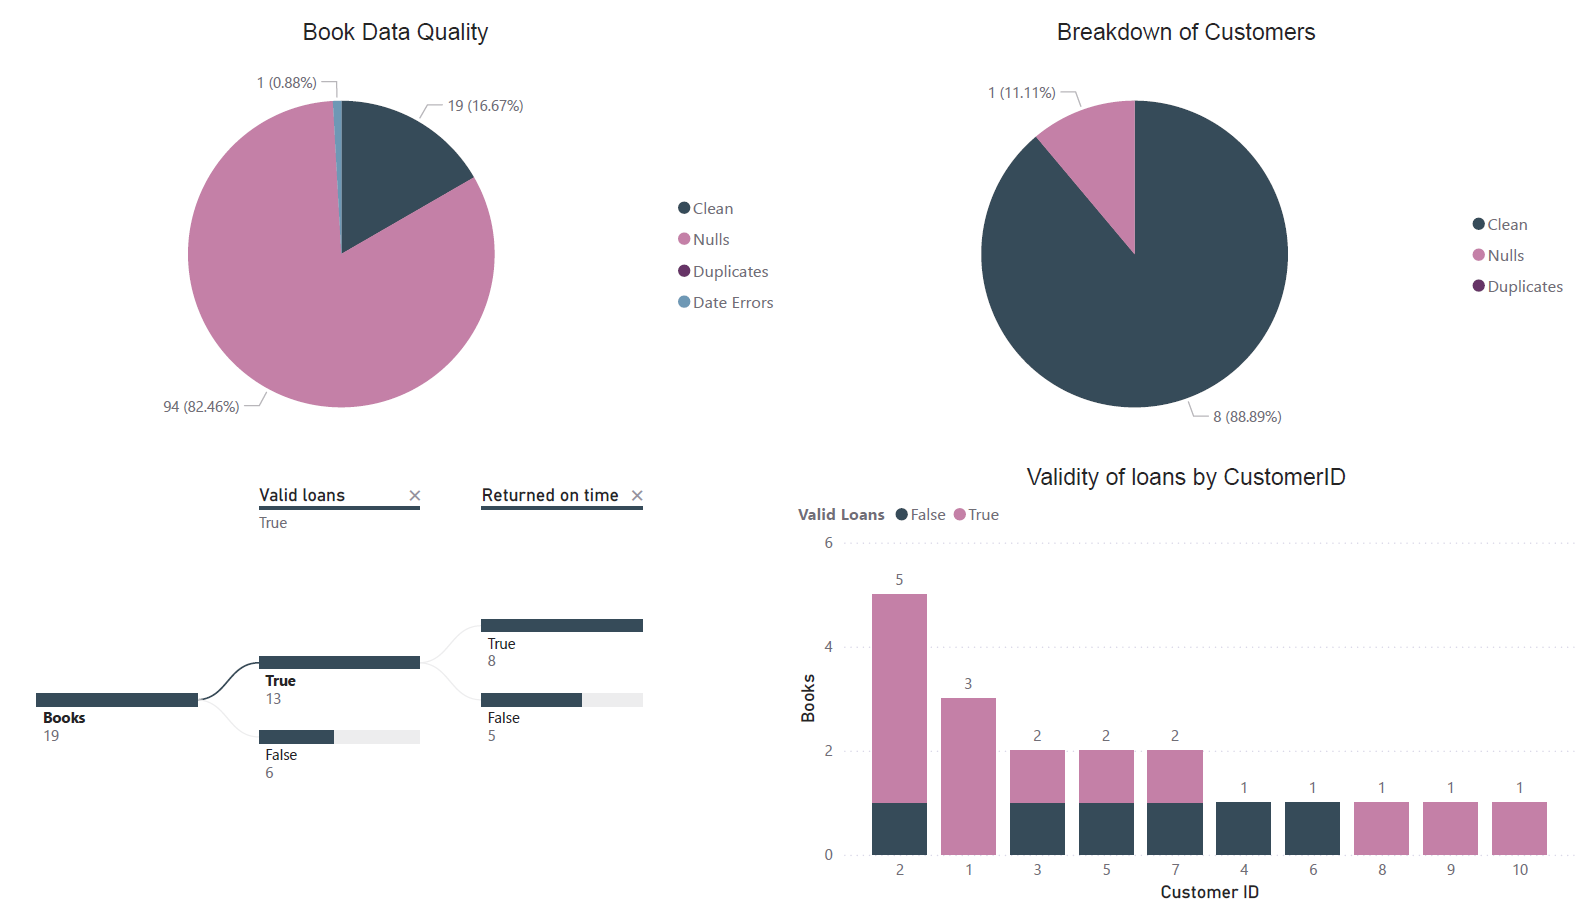

This screenshot's page, from the dashboard's own definition file:
{"tool":"powerbi","page":{"name":"Page 1","canvas":[1280,720],"ordinal":0},"visuals":[{"type":"pieChart","title":"Book Data Quality","fields":{"Y":["Sum(Totals.total_clean_books)","Sum(Totals.total_na_removed_books)","Sum(Totals.total_dupes_removed_books)","Sum(Totals.total_errors_removed_books)"]},"box":[0,0,640.5,359.5],"z":0},{"type":"pieChart","title":"Breakdown of Customers","fields":{"Y":["Sum(Totals.total_clean_customers)","Sum(Totals.total_na_removed_customers)","Sum(Totals.total_dupes_removed_customers)"]},"box":[640.5,0,639.5,359.5],"z":1000},{"type":"decompositionTreeVisual","fields":{"Analyze":["CountNonNull(Books.Id)"],"ExplainBy":["Books.valid_loan_flag","Books.returned_on_time"]},"box":[0,359.5,640.5,360.6],"z":2000},{"type":"columnChart","title":"Validity of loans by CustomerID","fields":{"Category":["Books.Customer ID"],"Series":["Books.valid_loan_flag"],"Y":["CountNonNull(Books.Id)"]},"box":[641,360,639,360],"z":2001}]}

Visuals, with their boxes in screenshot pixels (x1, y1, x2, y2), scaled from the page's 1280x720 canvas onto the 1590x922 screenshot:
"Book Data Quality" pieChart: 0 0 796 460
"Breakdown of Customers" pieChart: 796 0 1589 460
decompositionTreeVisual - CountNonNull(Books.Id) x Books.valid_loan_flag: 0 460 796 921
"Validity of loans by CustomerID" columnChart: 796 461 1589 921
